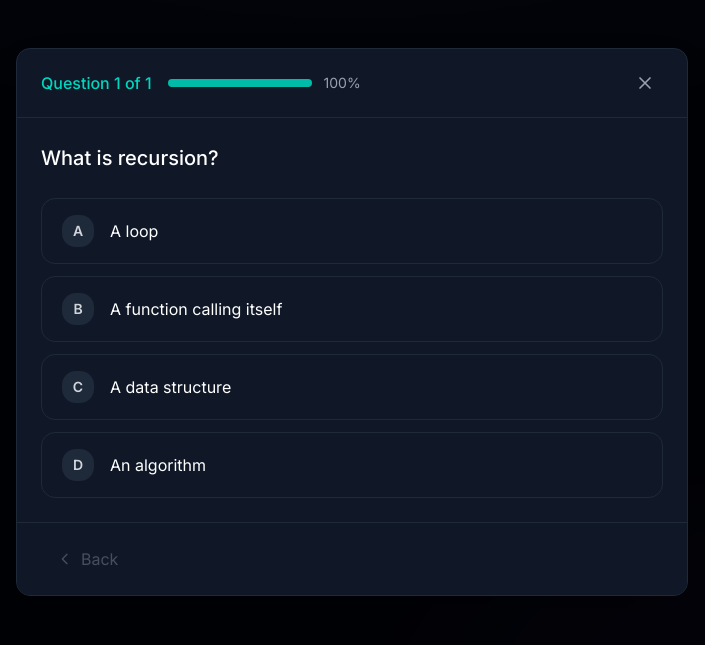
Scenario: QuizModal › handles answering a question
This screenshot has width=705, height=645.
Check: the text "Question 1 of 1" is shown, box x1=41 y1=71 x2=152 y2=95
Click the text "A function calling itself". click: x=196, y=309
box: x1=110 y1=299 x2=282 y2=319
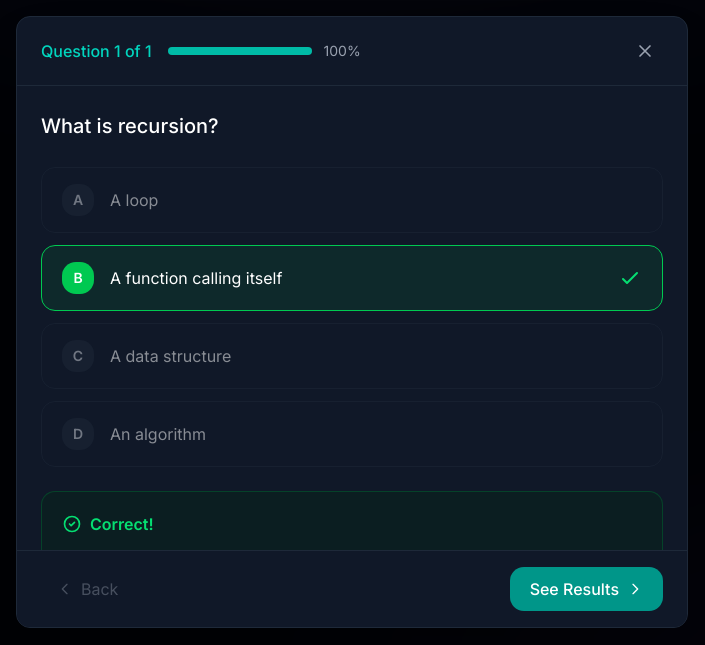
Check: the text "Correct!" is shown, box x1=90 y1=512 x2=154 y2=536
